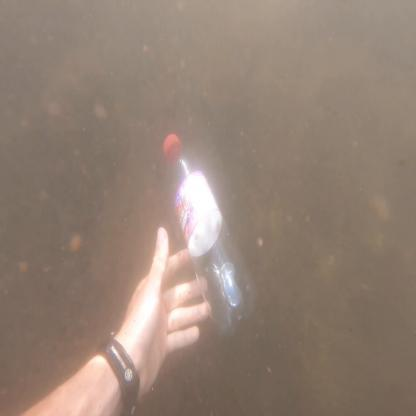Rác: (143, 104, 265, 333)
